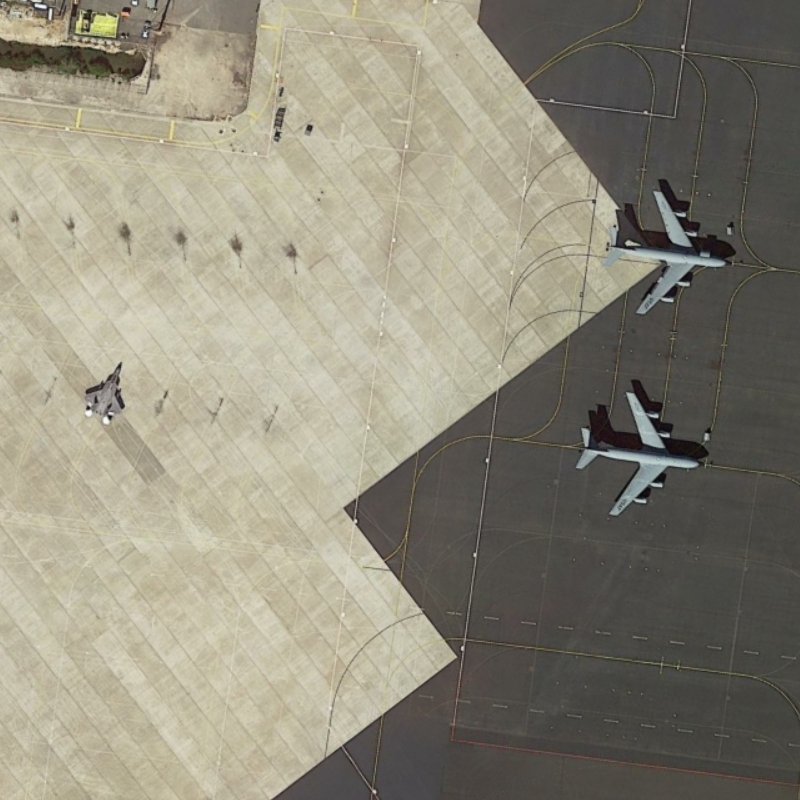A14: (599, 187, 734, 322), (573, 386, 706, 520)
A15: (77, 358, 129, 429)
